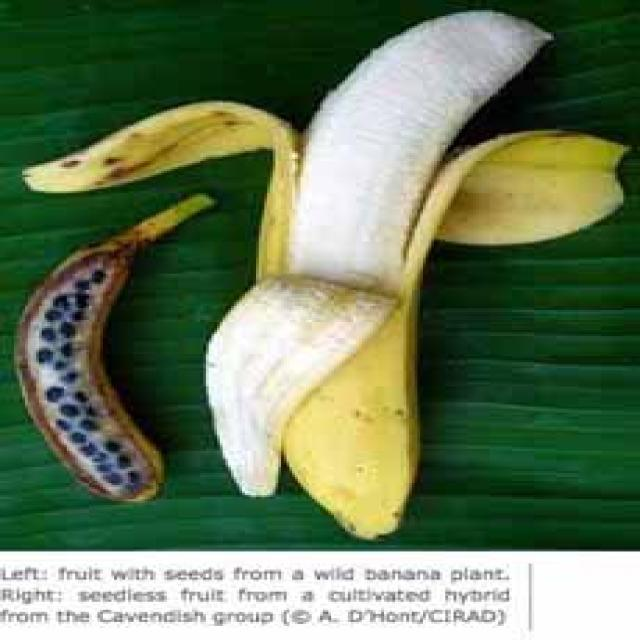Banana: (238, 2, 566, 542)
